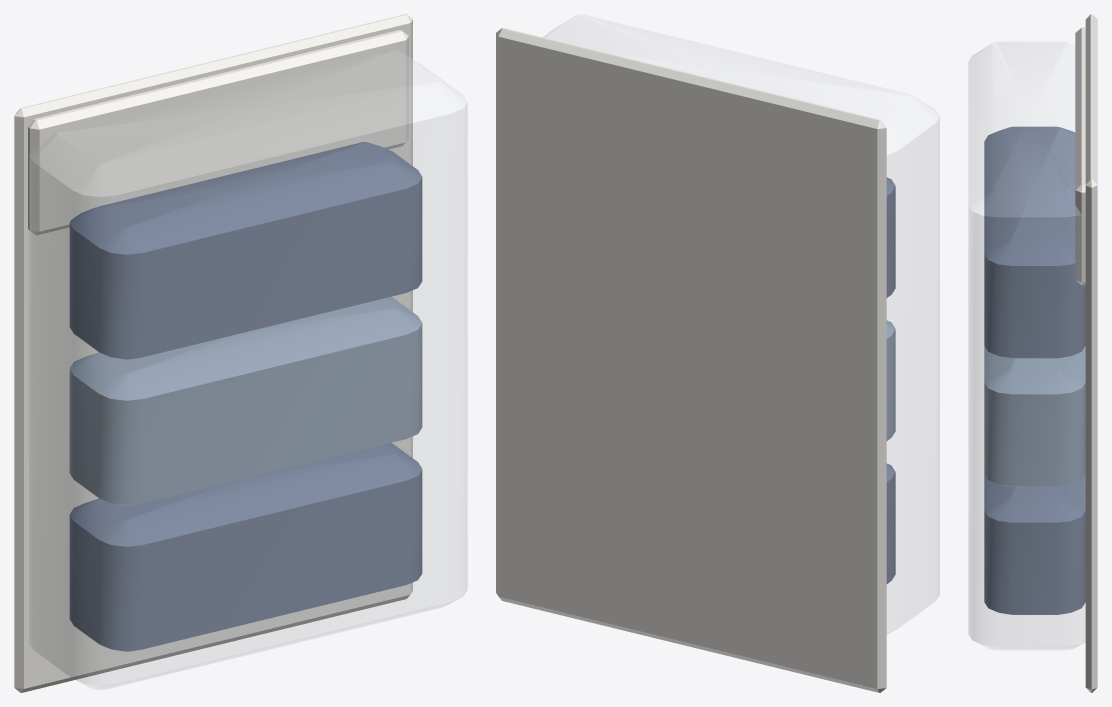
The model's file is clothing-rail-and-wardrobe-underwear-pack-2ea294f6__35444.glb.
3 renders of one model, left to right at view 1: azimuth 30°, elevation 25°; view 2: azimuth 150°, elevation 25°; view 3: azimuth 270°, elevation 25°, orthographic. The views are drawn at different scales.
Visible parts, largest first — view 1: underwear-pack; view 2: underwear-pack; view 3: underwear-pack.
Boxes of the visible parts, <box> form: underwear-pack: <box>14,14,467,692</box>; underwear-pack: <box>496,14,939,692</box>; underwear-pack: <box>968,14,1097,692</box>.
Size of the model in its own units: 0.2 by 0.28 by 0.064.
